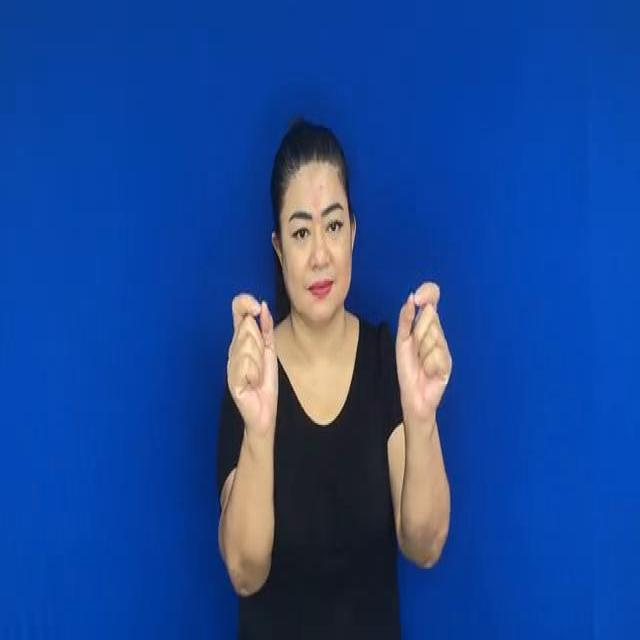crab: (381, 264, 465, 434), (215, 272, 288, 448)
